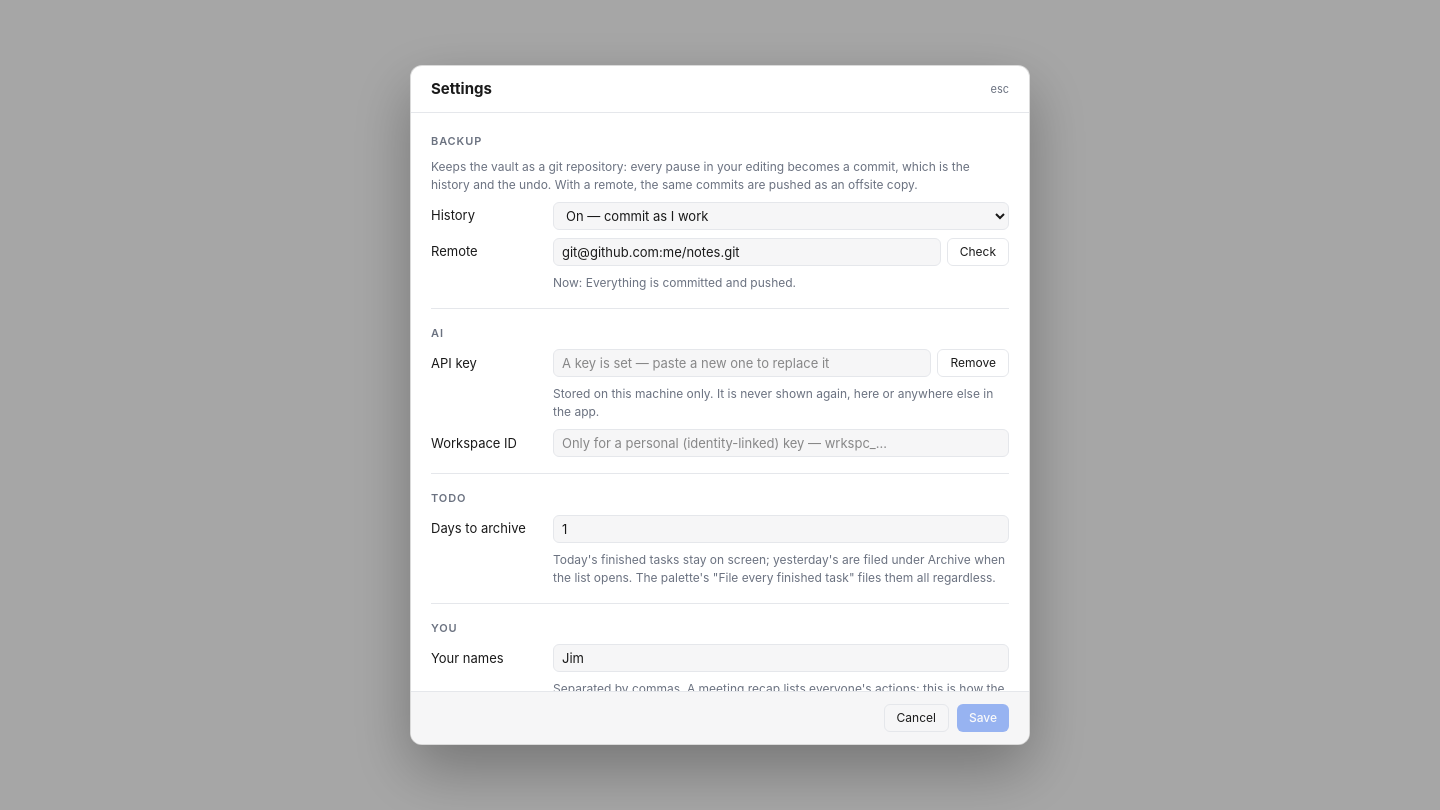
it: the settings screen › shows why a save was refused, and stays open
Replace the text in the field showing "git@github.com:me/notes.git" with "--nope" at (747, 252), box x1=553 y1=238 x2=941 y2=266
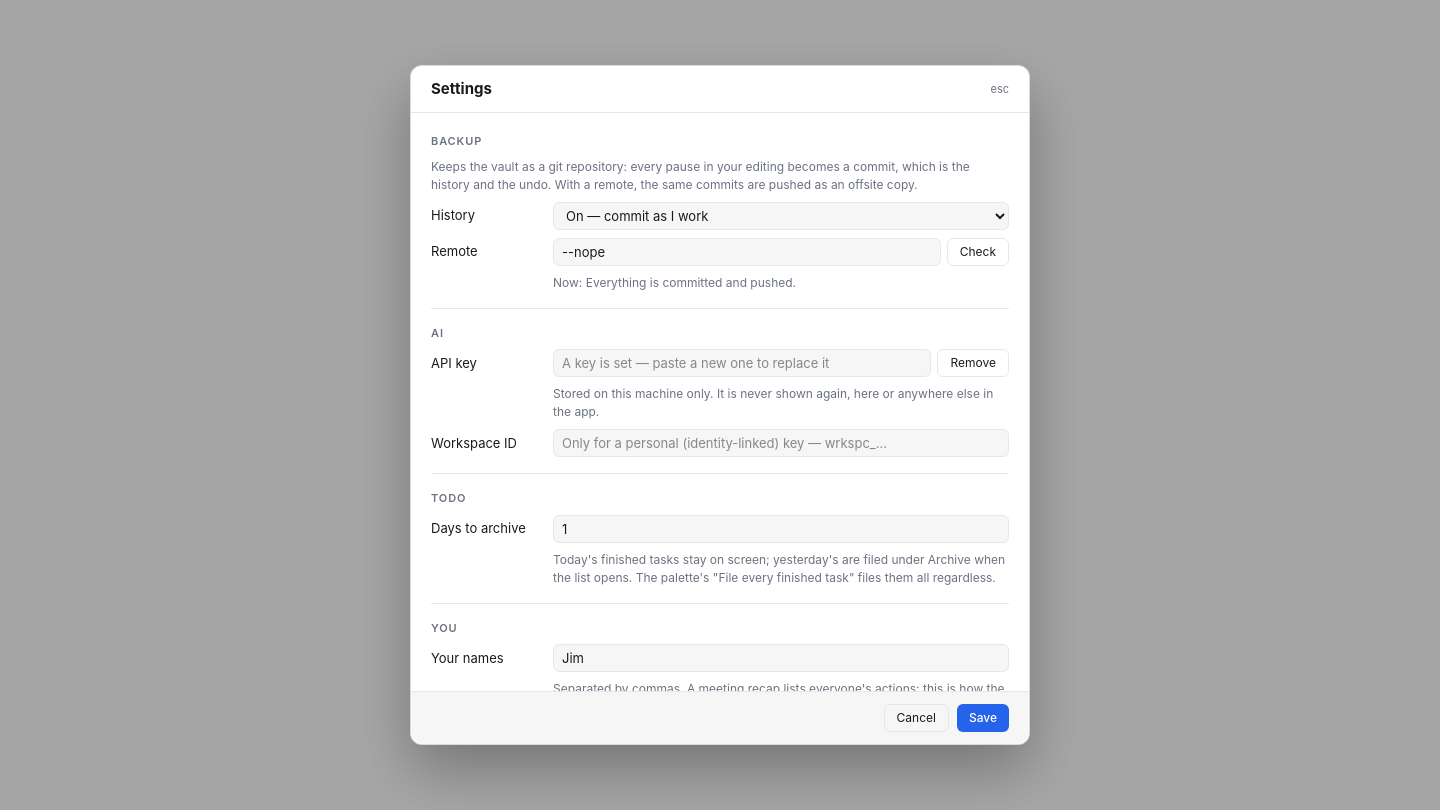
Click the button "Save" at (983, 718), box x1=957 y1=704 x2=1009 y2=732
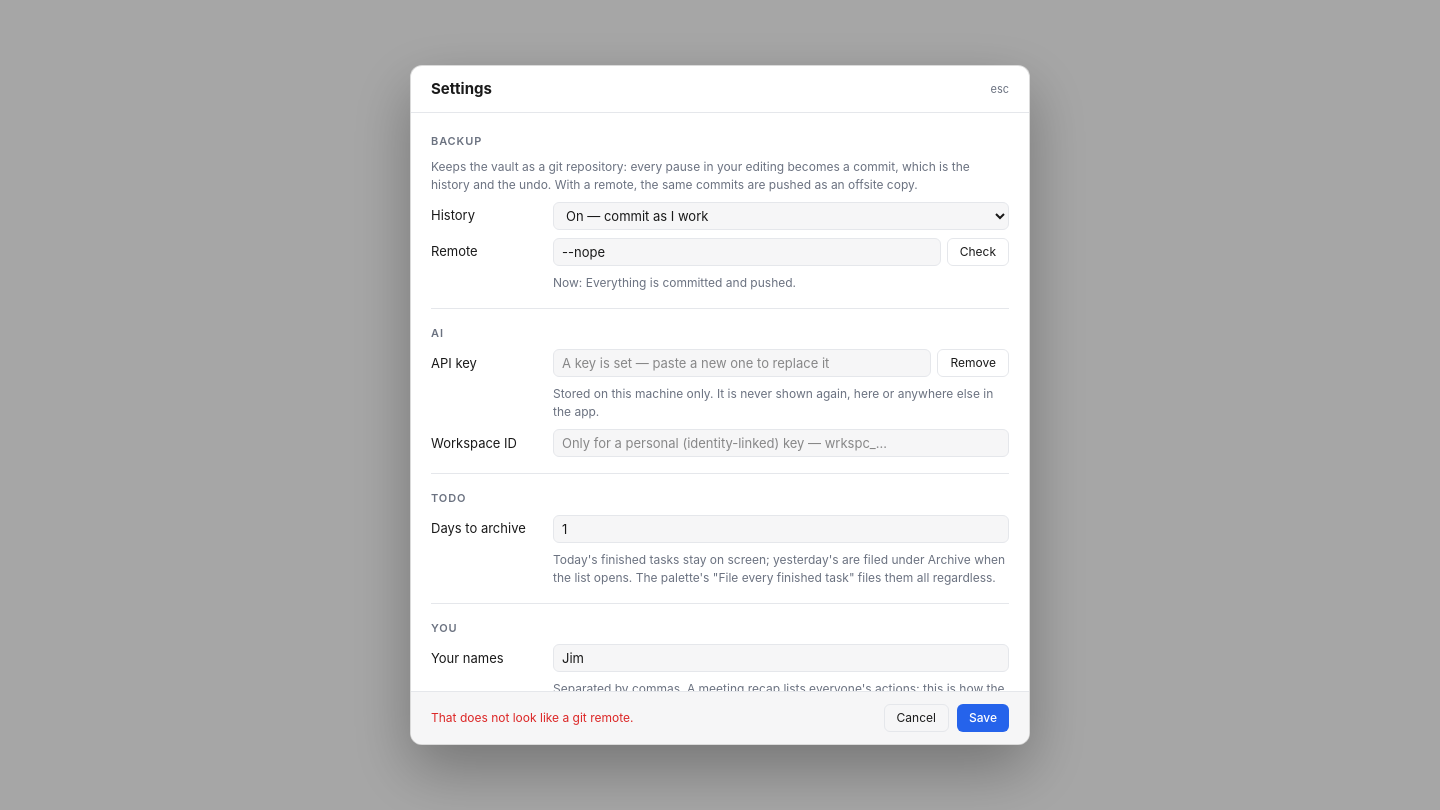
Expected: the text "That does not look like a git remote." is shown, x1=431 y1=710 x2=633 y2=725
